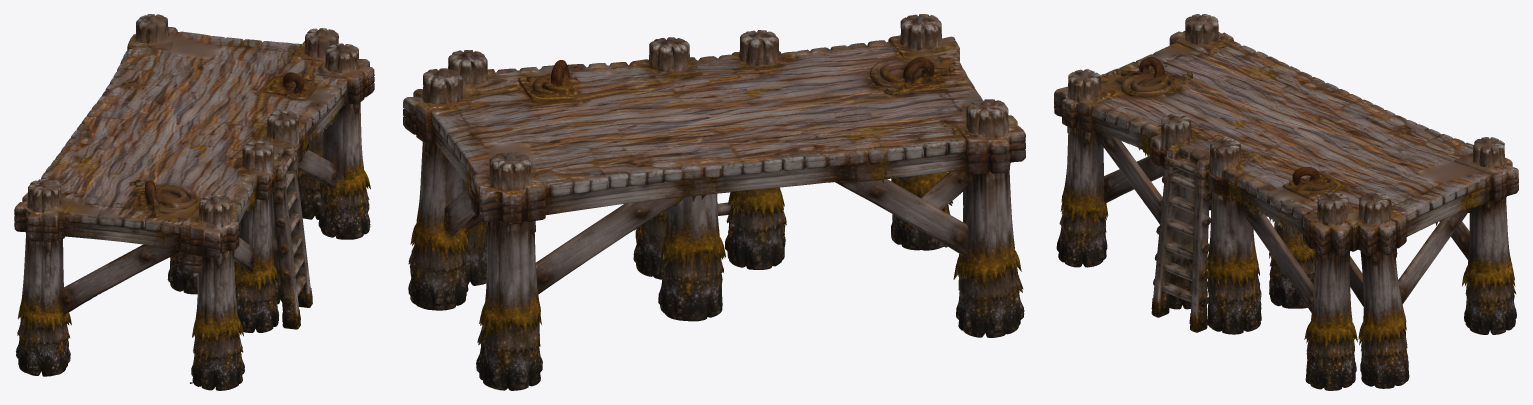
Rendered from dock_landing.glb.
The picture shows the model from 3 angles, left to right: view 1: azimuth 30°, elevation 25°; view 2: azimuth 150°, elevation 25°; view 3: azimuth 270°, elevation 25°; orthographic projection. The views are drawn at different scales.
Visible parts, largest first — view 1: material; view 2: material; view 3: material.
Boxes of the visible parts, x1,y1,x2,y2 form: material: [14, 14, 374, 390]; material: [403, 14, 1025, 390]; material: [1054, 14, 1518, 390].
Size of the model in its own units: 1.05 by 0.4471 by 1.01.
1 material, 1 textured.
